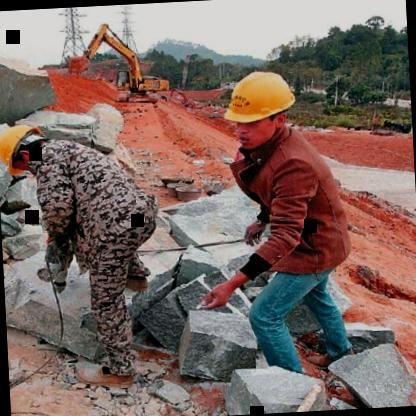helmet: (216, 64, 306, 149), (0, 118, 56, 174)
